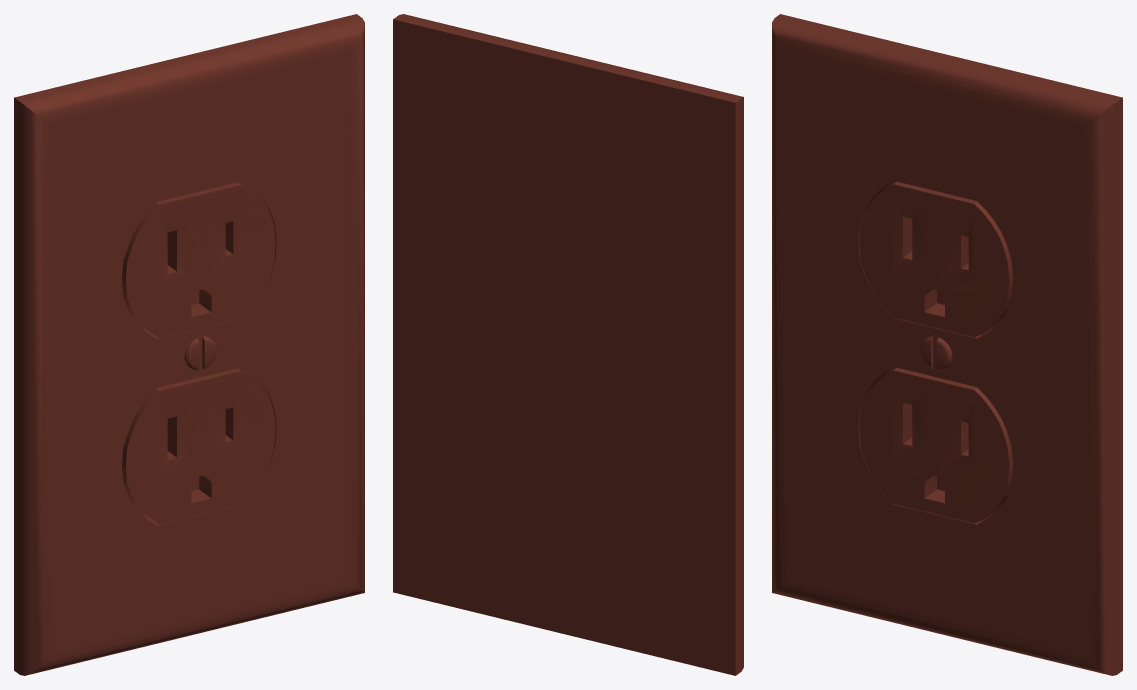
File: Wall_Outlet.fbx
3 views of the same model, side by side, from view 1: azimuth 30°, elevation 25°; view 2: azimuth 150°, elevation 25°; view 3: azimuth 330°, elevation 25° (orthographic).
Visible parts, largest first — view 1: plug 1; view 2: plug 1; view 3: plug 1.
Boxes of the visible parts, <box> form: plug 1: <box>14,14,364,675</box>; plug 1: <box>393,14,743,675</box>; plug 1: <box>772,14,1122,675</box>.
Bounding box in the file's own units: 17.07 × 27.3 × 1.49.
